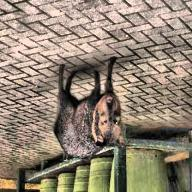boar: (42, 69, 140, 177)
